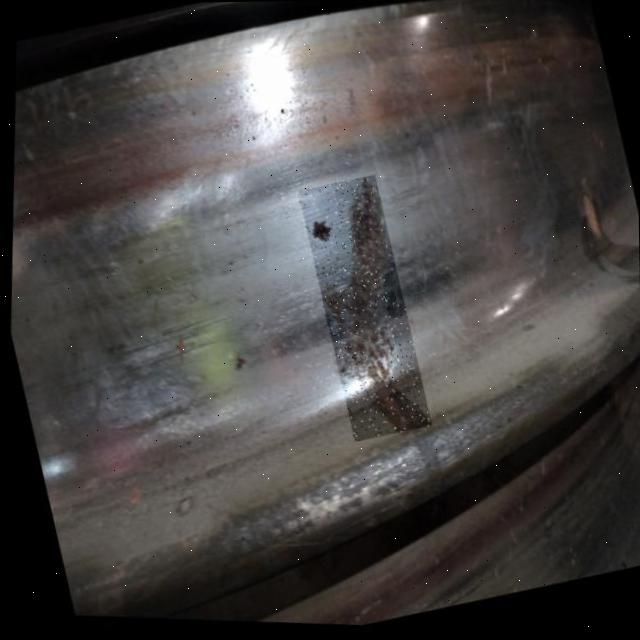Blue hole: (300, 218, 341, 257)
